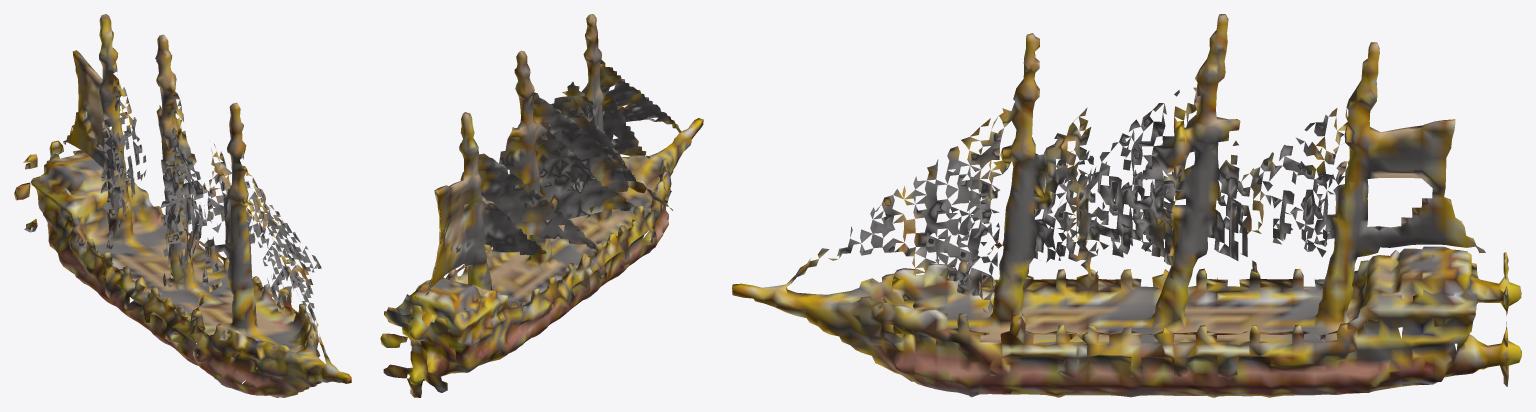
The model's file is mon3d_lo.glb.
The picture shows the model from 3 angles, left to right: view 1: azimuth 30°, elevation 25°; view 2: azimuth 150°, elevation 25°; view 3: azimuth 270°, elevation 25°; orthographic projection. The views are drawn at different scales.
Bounding box in the file's own units: 0.5178 × 1.01 × 1.95.
